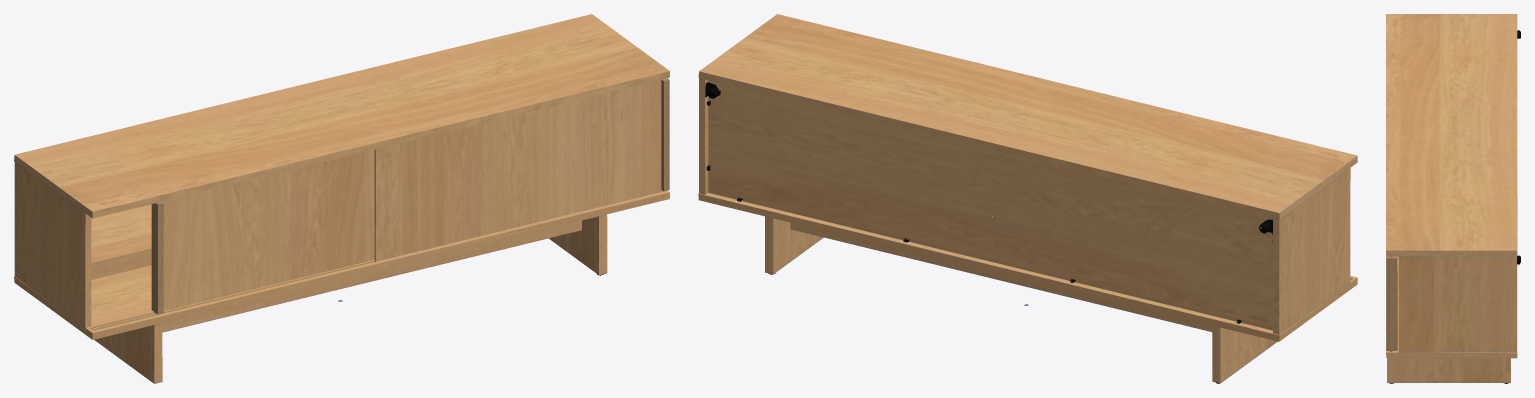
File: storage-13.glb
3 views of the same model, side by side, from view 1: azimuth 30°, elevation 25°; view 2: azimuth 150°, elevation 25°; view 3: azimuth 270°, elevation 25° (orthographic). The views are drawn at different scales.
Visible parts, largest first — view 1: id:ad87e0ef-1561-4378-8595-d409d2340941:ASY_ART[cabinet]; view 2: id:ad87e0ef-1561-4378-8595-d409d2340941:ASY_ART[cabinet]; view 3: id:ad87e0ef-1561-4378-8595-d409d2340941:ASY_ART[cabinet].
Boxes of the visible parts, <box> form: id:ad87e0ef-1561-4378-8595-d409d2340941:ASY_ART[cabinet]: <box>14,14,669,383</box>; id:ad87e0ef-1561-4378-8595-d409d2340941:ASY_ART[cabinet]: <box>698,14,1357,383</box>; id:ad87e0ef-1561-4378-8595-d409d2340941:ASY_ART[cabinet]: <box>1386,14,1520,383</box>.
Size of the model in its own units: 1.79 by 0.56 by 0.43.
1 material, 1 textured.
